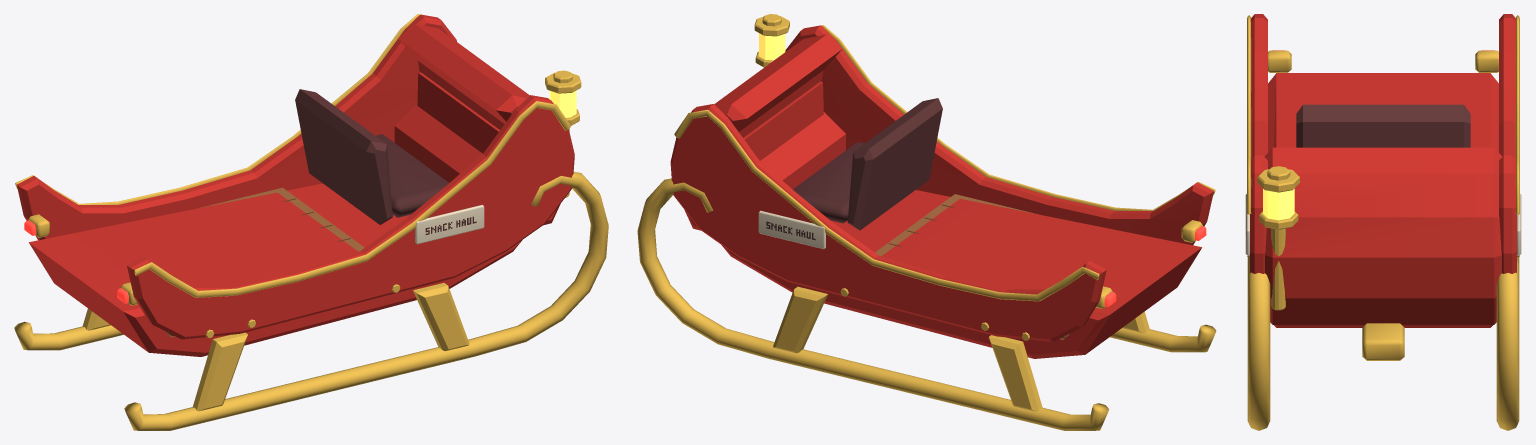
Rendered from truck_sleigh.glb.
3 renders of one model, left to right at view 1: azimuth 30°, elevation 25°; view 2: azimuth 150°, elevation 25°; view 3: azimuth 270°, elevation 25°, orthographic. The views are drawn at different scales.
Visible parts, largest first — view 1: body_geometry; view 2: body_geometry, lights_front_geometry; view 3: body_geometry, lights_front_geometry.
Part boxes in pixels (x1=…): body_geometry: x1=14, y1=14, x2=608, y2=430; body_geometry: x1=637, y1=14, x2=1216, y2=430; lights_front_geometry: x1=759, y1=33, x2=785, y2=60; body_geometry: x1=1245, y1=14, x2=1521, y2=430; lights_front_geometry: x1=1263, y1=188, x2=1294, y2=220.
Size of the model in its own units: 4.14 by 2.06 by 1.82.
